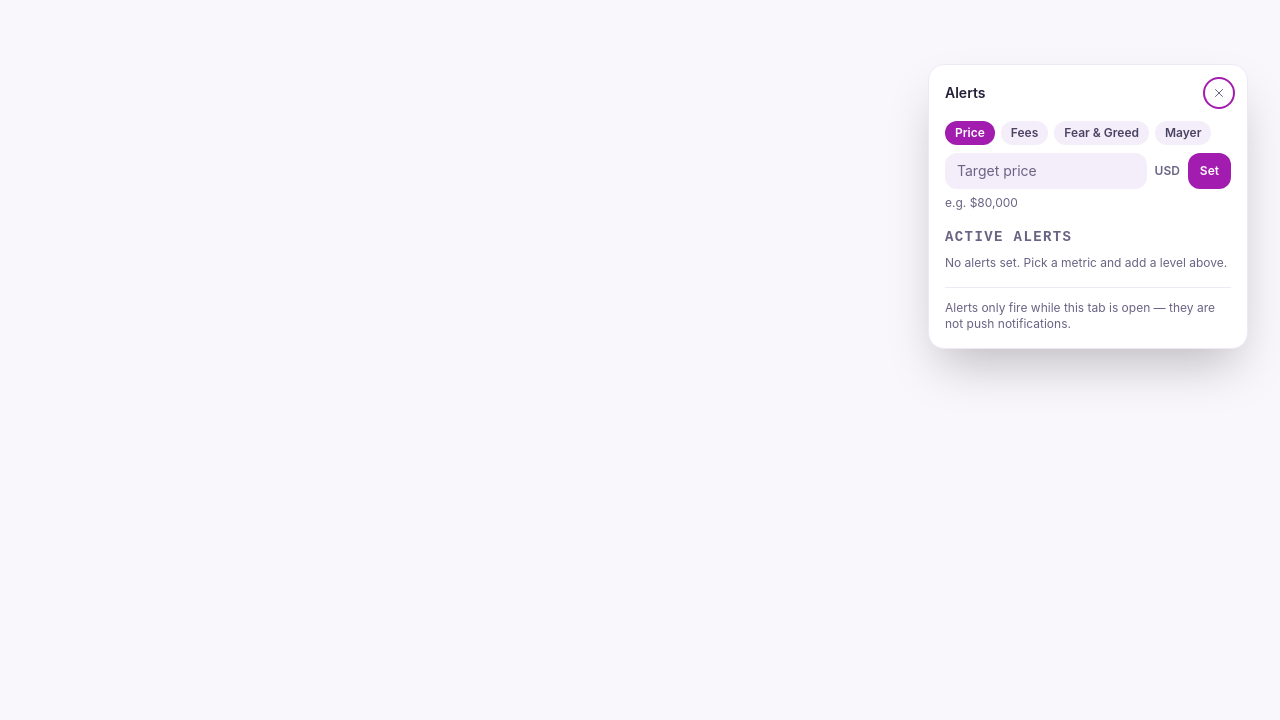
PriceAlertsPanel metric picker › accepts a Fear & Greed level of 0 and refuses one above 100
Click the button "Fear & Greed".
click(1102, 133)  # box [1054,121,1149,145]
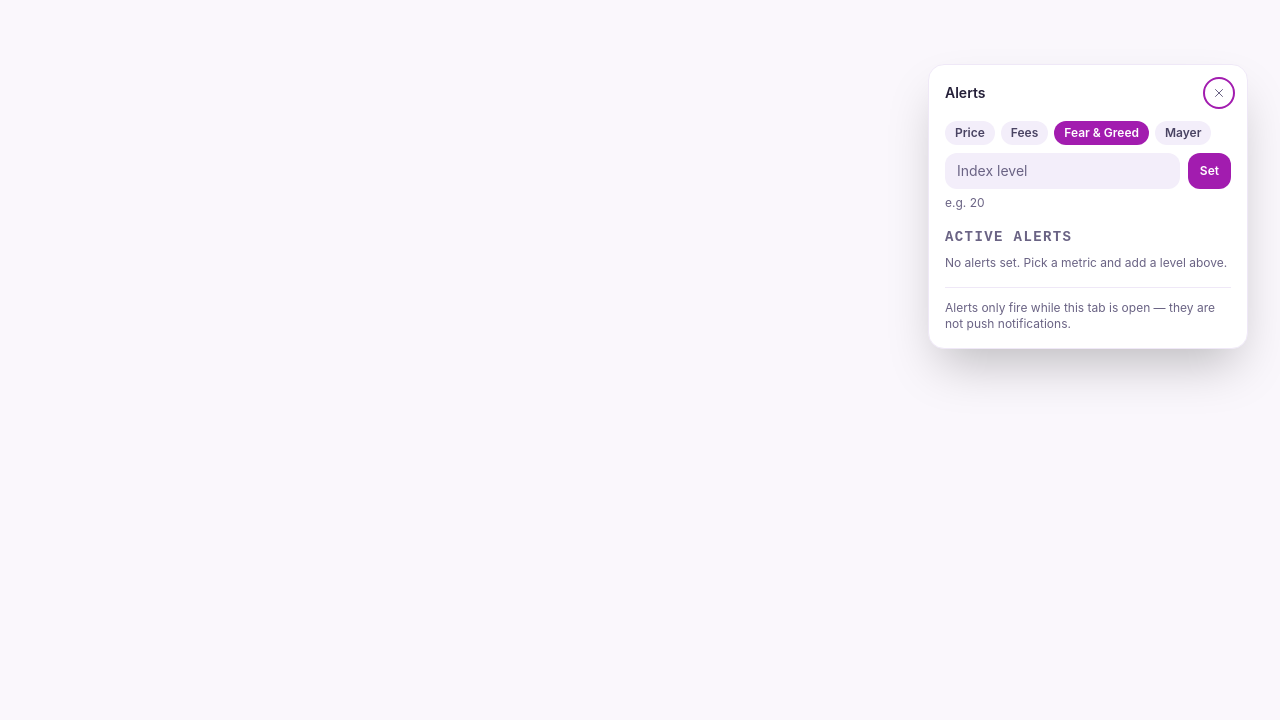
Type "0" into the number field with placeholder "Index level".
click(1062, 171); type("0")  # box [945,153,1180,189]
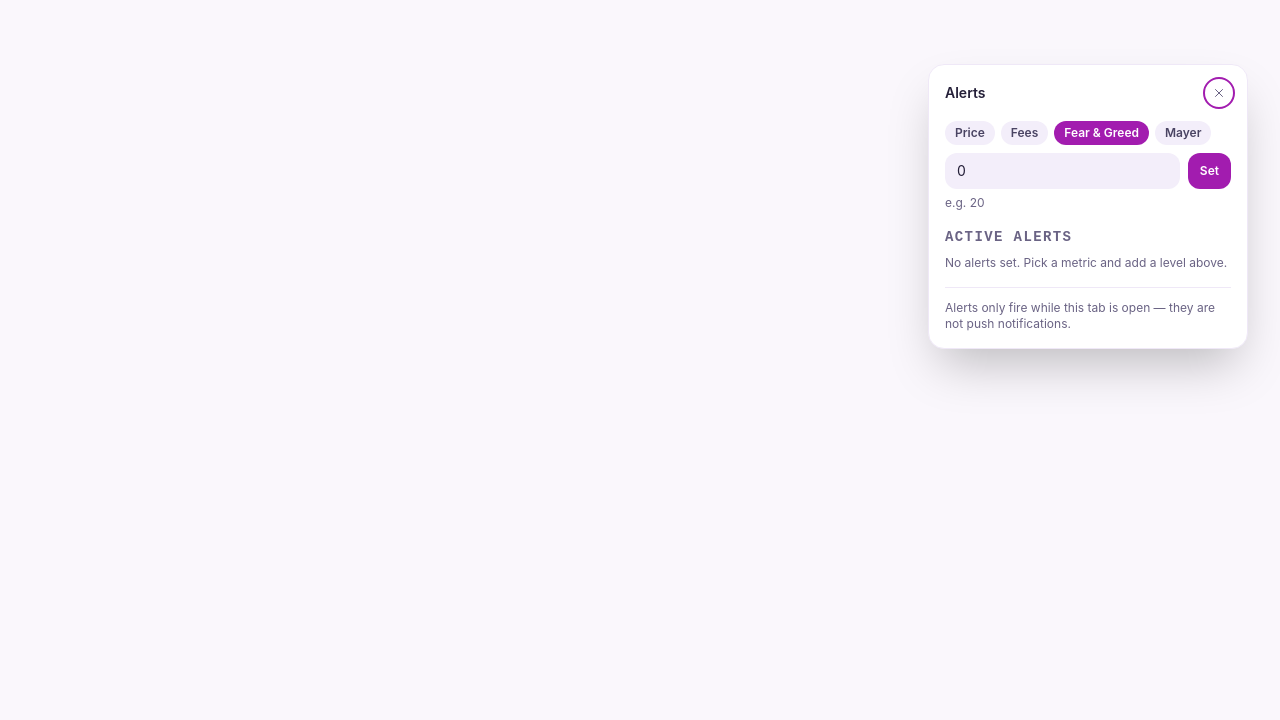
Submit the form from the button "Set", box [1188,153,1231,189]
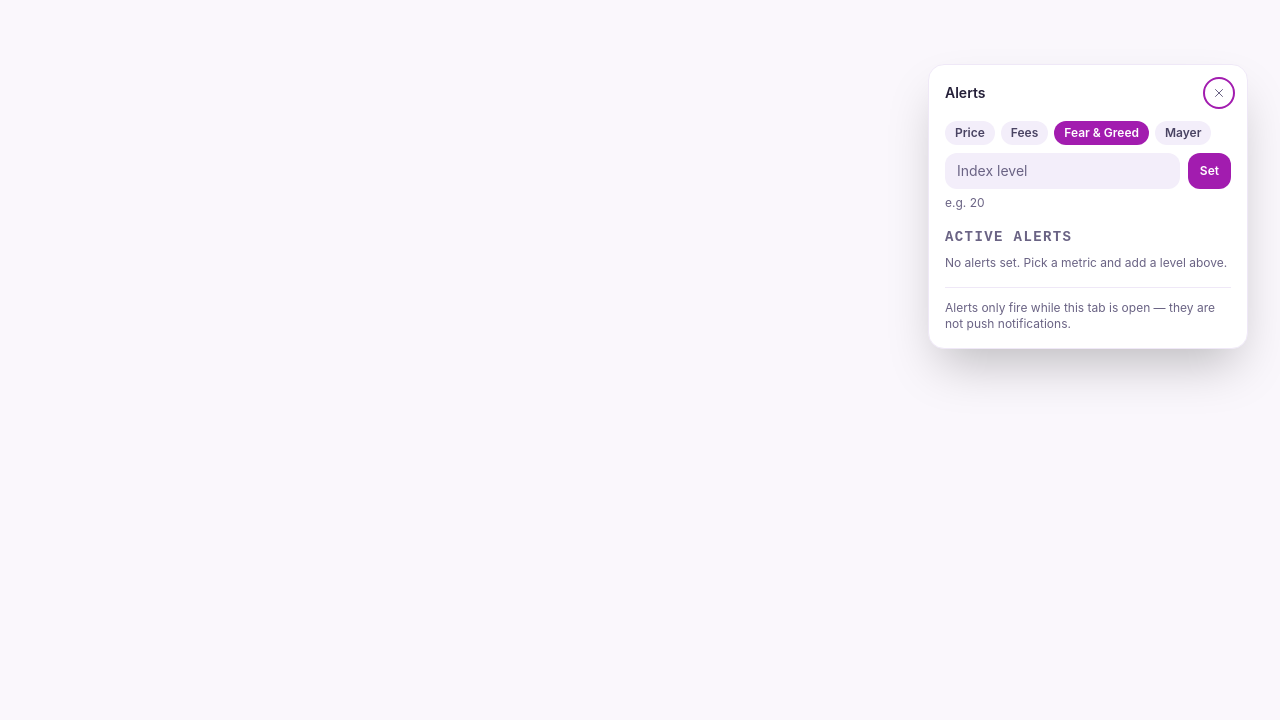
Type "101" into the number field with placeholder "Index level".
click(1062, 171); type("101")  # box [945,153,1180,189]
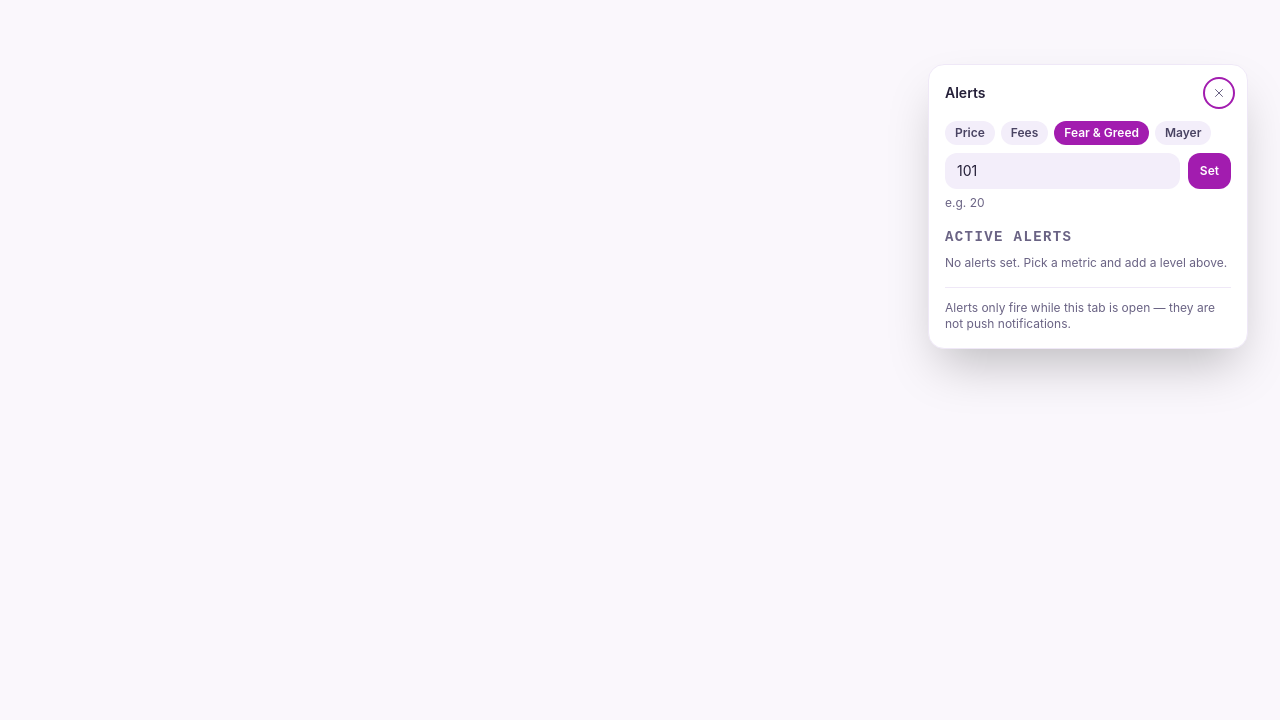
Submit the form from the button "Set", box [1188,153,1231,189]
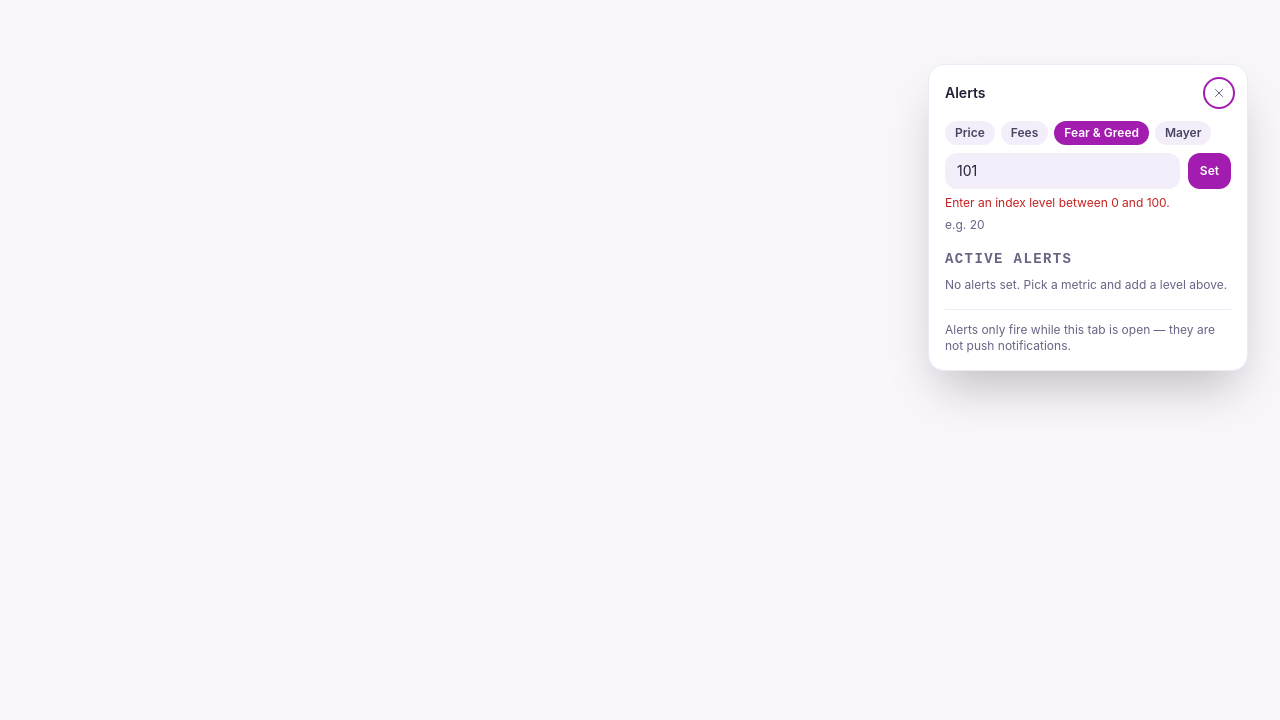
Now the text "Enter an index level between 0 and 100." is shown, box [945,195,1170,210]
